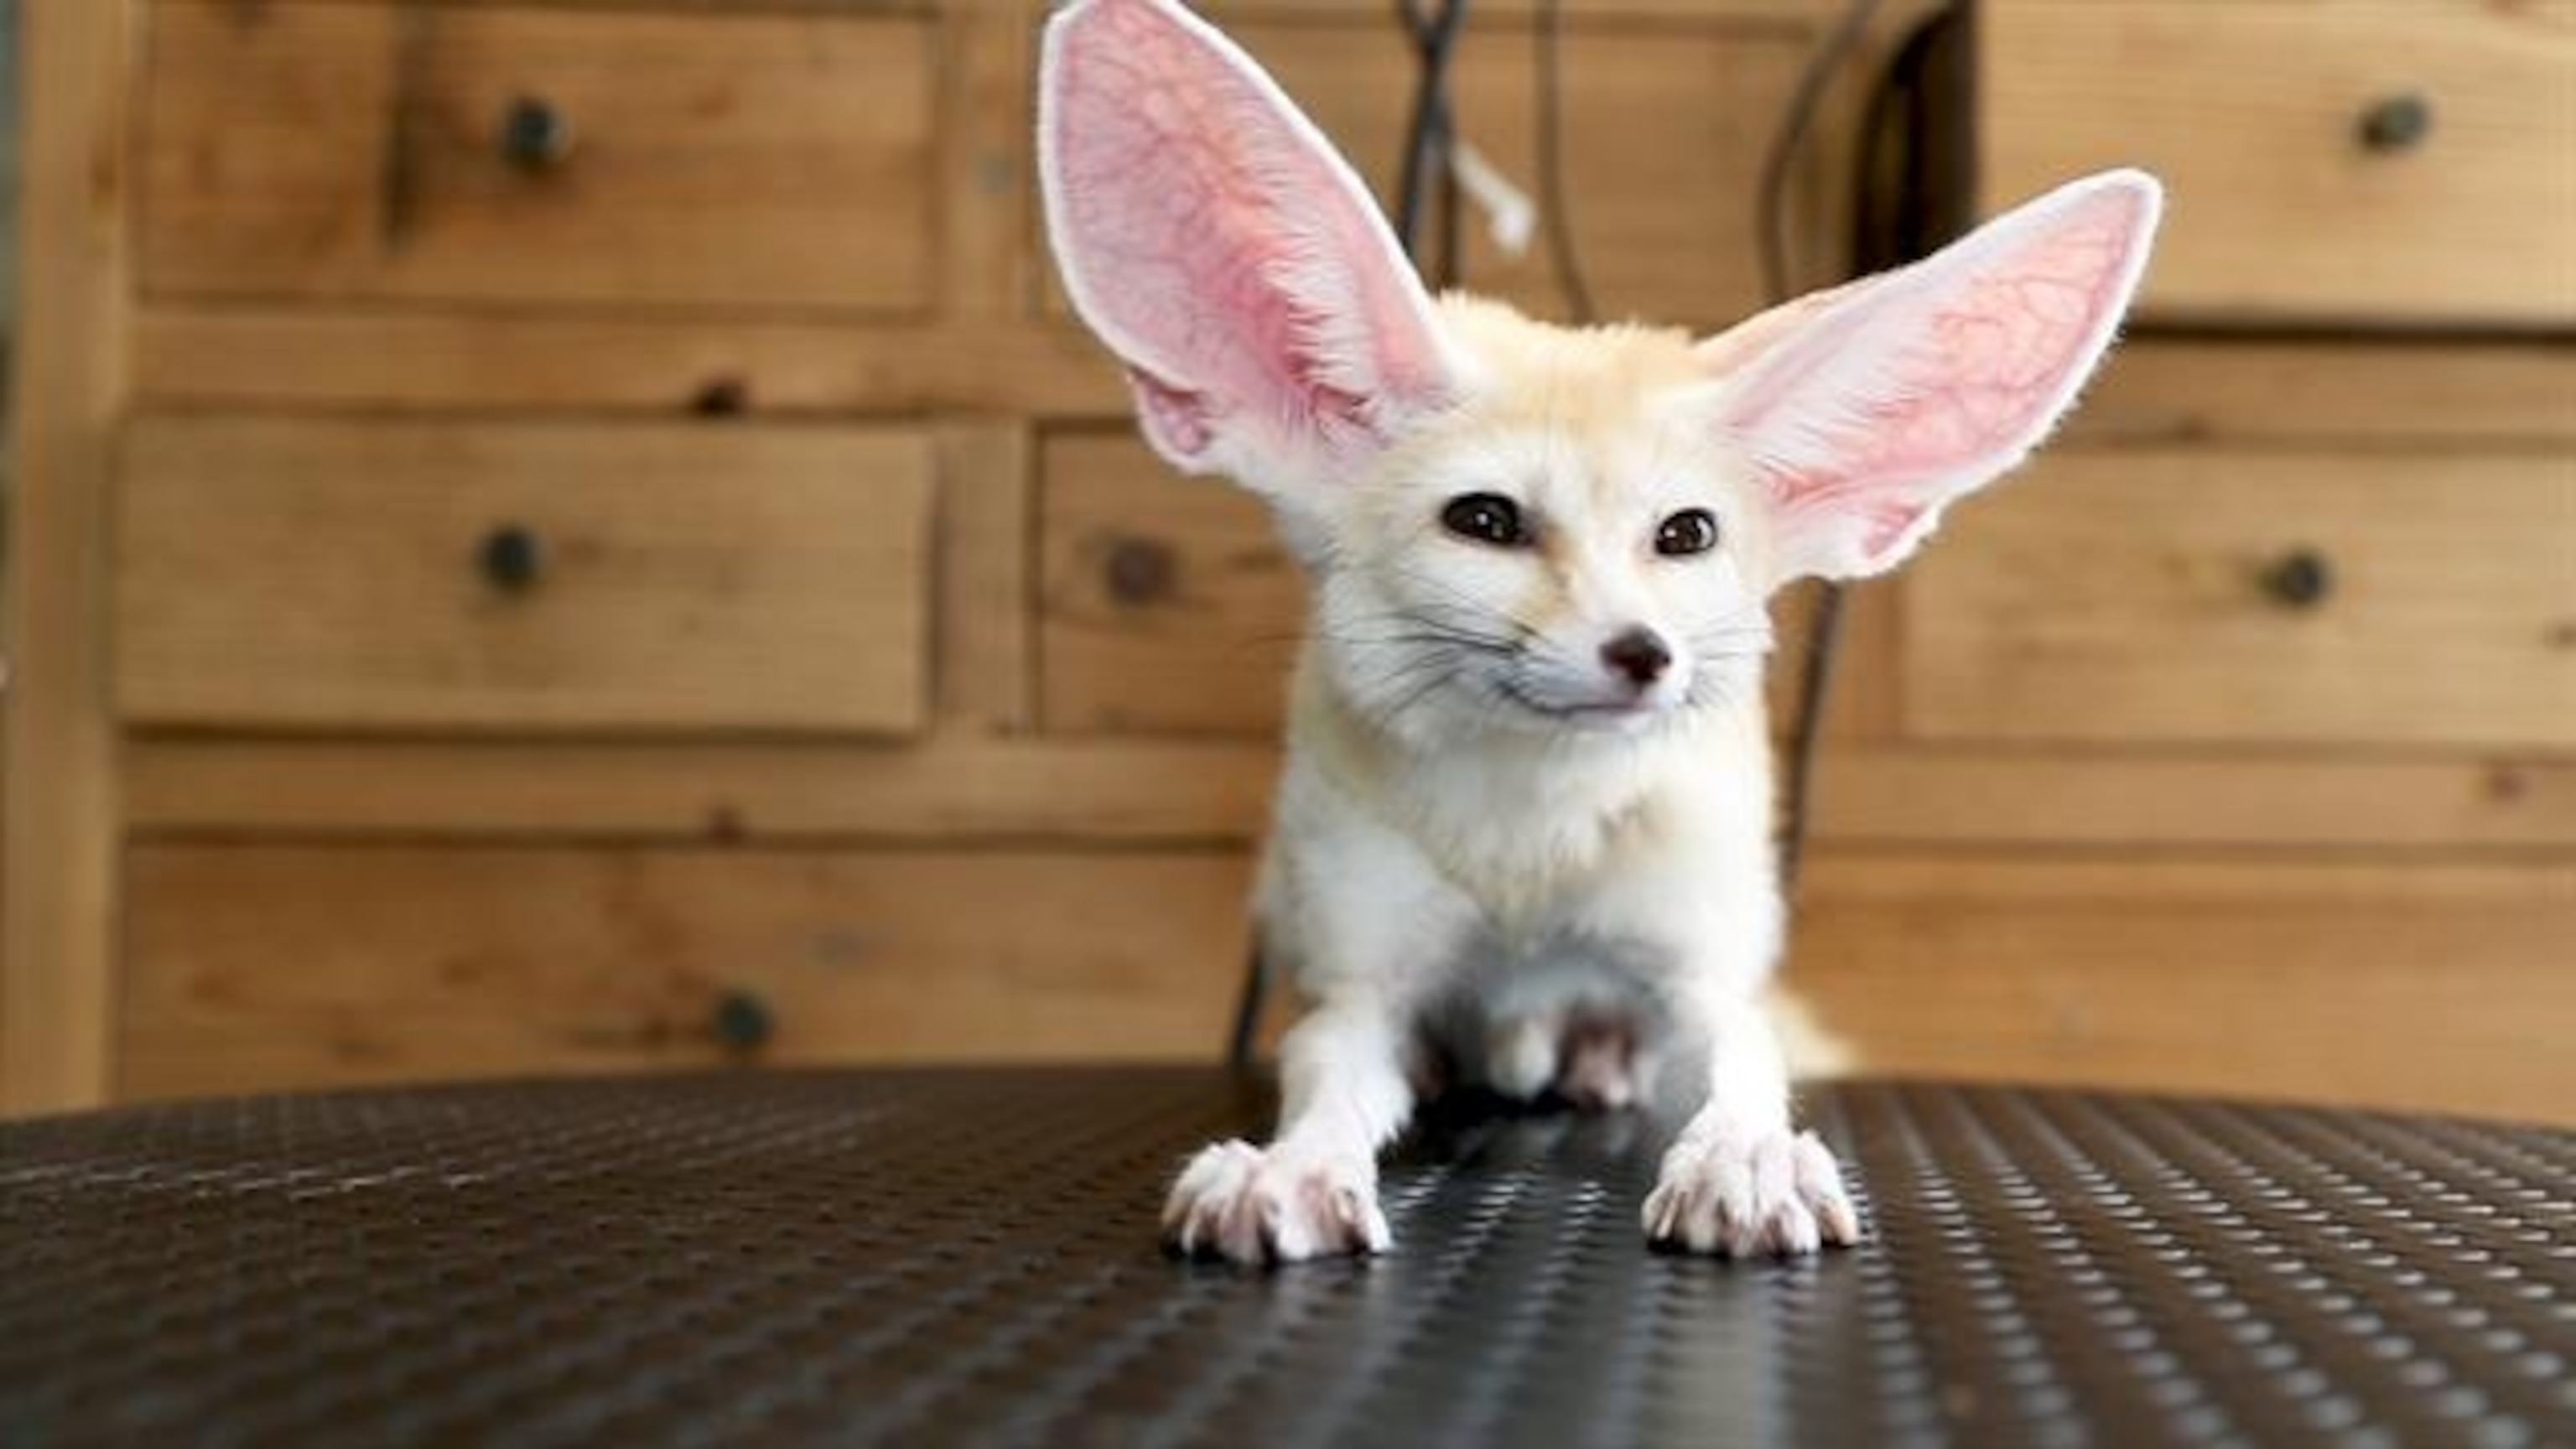pet: (998, 11, 1983, 1212)
